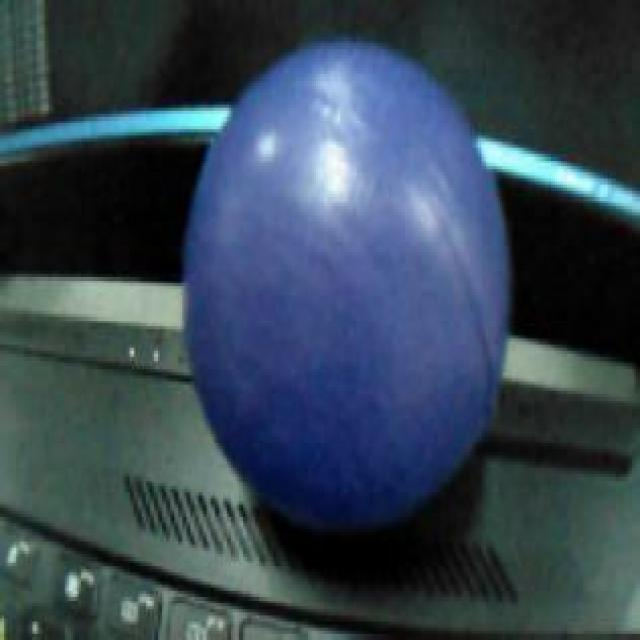BallPurple: (184, 44, 508, 514)
